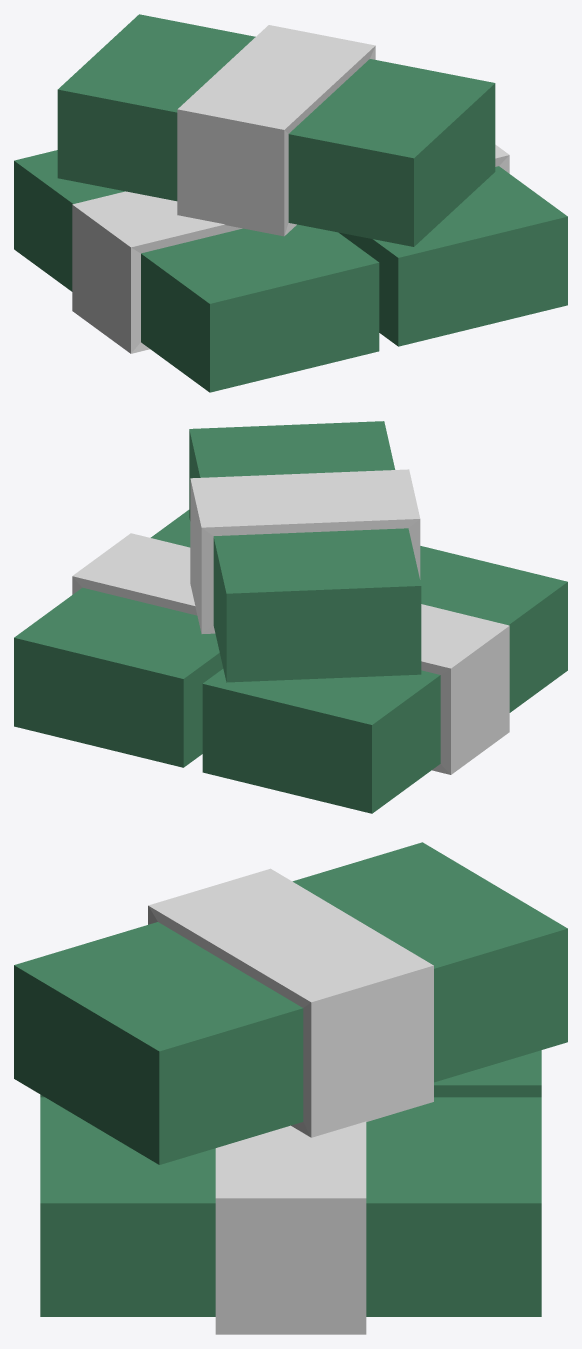
File: MoneyBag.fbx
3 renders of one model, top to bottom at view 1: azimuth 30°, elevation 25°; view 2: azimuth 150°, elevation 25°; view 3: azimuth 270°, elevation 25°, orthographic. The views are drawn at different scales.
Parts seen in each view (by area): view 1: Cube.002, Cube.001, Cube; view 2: Cube.002, Cube.001, Cube; view 3: Cube.002, Cube, Cube.001.
Part boxes in pixels (bbox=[...]): Cube.002: bbox=[57, 14, 495, 246]; Cube.001: bbox=[14, 150, 379, 392]; Cube: bbox=[339, 144, 567, 346]; Cube.002: bbox=[189, 421, 421, 682]; Cube.001: bbox=[202, 546, 567, 813]; Cube: bbox=[14, 510, 223, 767]; Cube.002: bbox=[14, 842, 567, 1164]; Cube: bbox=[40, 1097, 541, 1334]; Cube.001: bbox=[40, 1050, 541, 1097].
Size of the model in its own units: 447 by 239 by 442.
